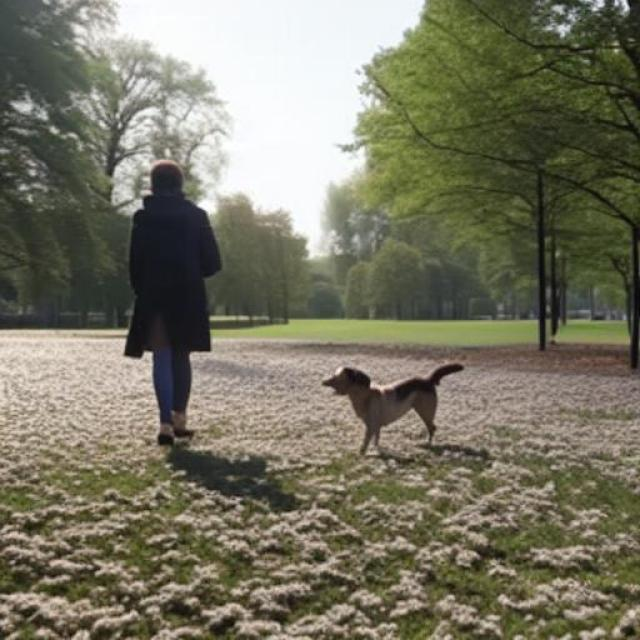Unleashed_Dog: (132, 284, 464, 458)
